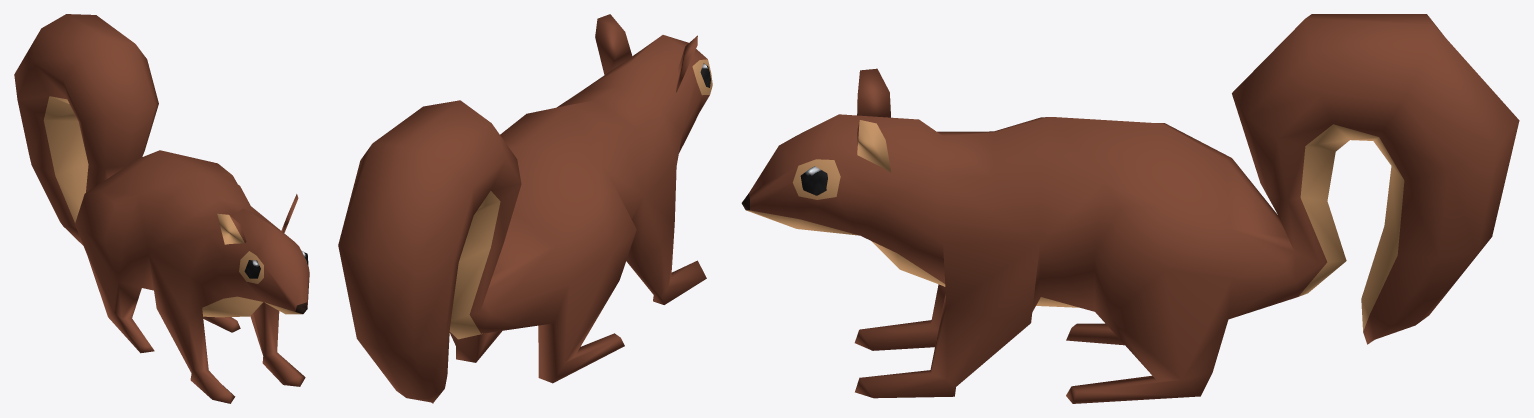
File: dee30f0f-ace7-4044-a4df-9795f4d00b81.glb
3 renders of one model, left to right at view 1: azimuth 30°, elevation 25°; view 2: azimuth 150°, elevation 25°; view 3: azimuth 270°, elevation 25°, orthographic. The views are drawn at different scales.
Parts seen in each view (by area): view 1: Squirrel01; view 2: Squirrel01; view 3: Squirrel01.
Boxes of the visible parts, x1,y1,x2,y2 form: Squirrel01: (14, 14, 309, 403); Squirrel01: (338, 14, 712, 403); Squirrel01: (741, 14, 1519, 403).
Size of what is drawn, in the model's own units: 0.2469 by 0.3879 by 0.782.
1 material, 1 textured.
